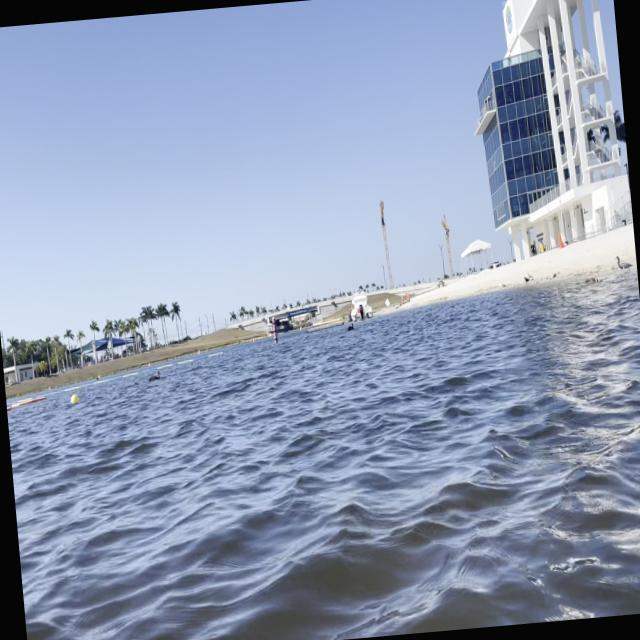buoy: (68, 389, 80, 407)
